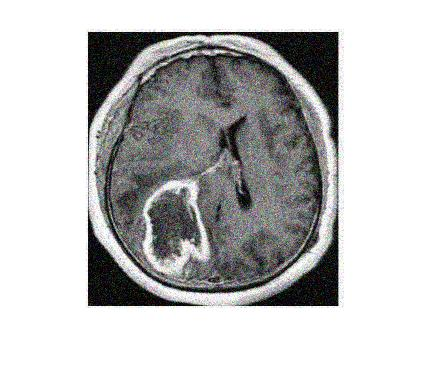Brain_Cancer: (142, 178, 210, 278)
